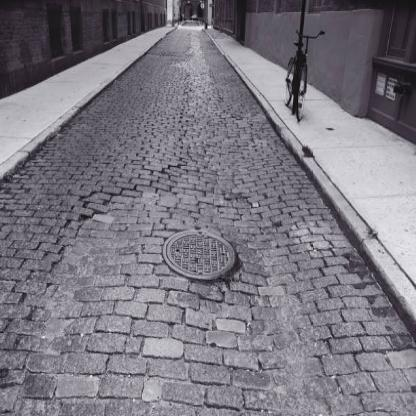manholes: (153, 218, 253, 298)
